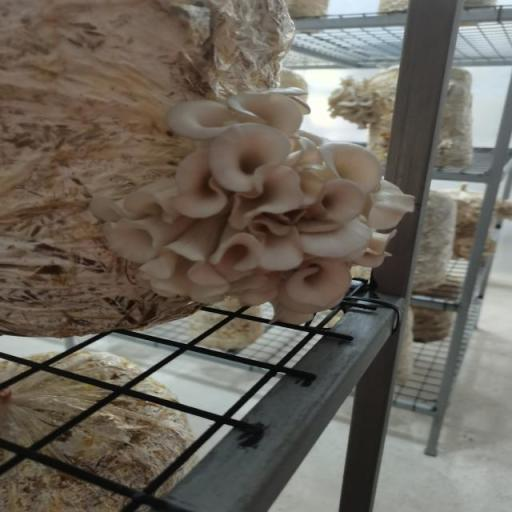White Oyster Mushroom: (86, 85, 422, 331)
